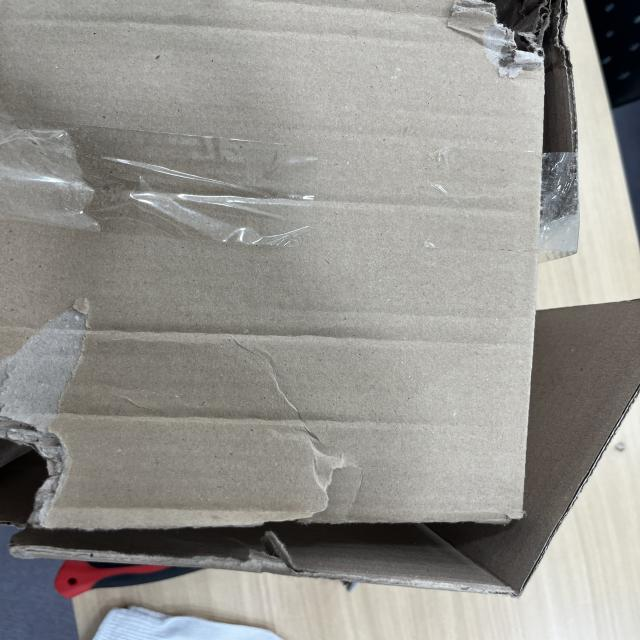hole: (1, 433, 335, 563)
